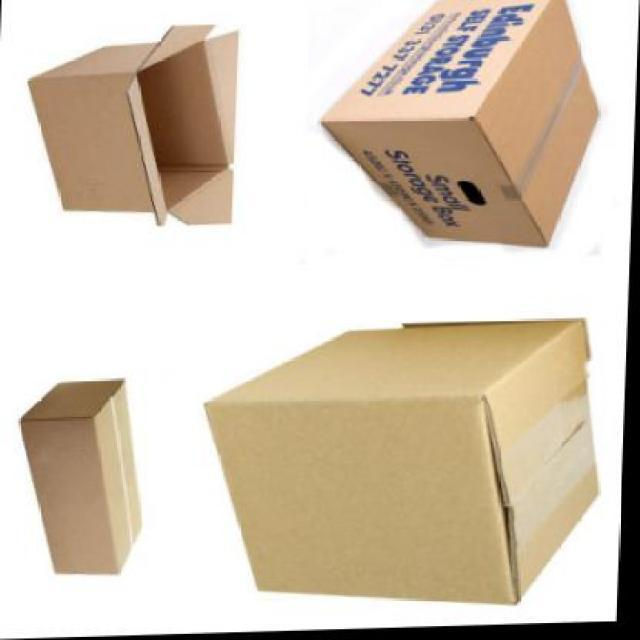box: (204, 323, 606, 615), (321, 0, 603, 251), (28, 42, 226, 215), (20, 380, 149, 576)
